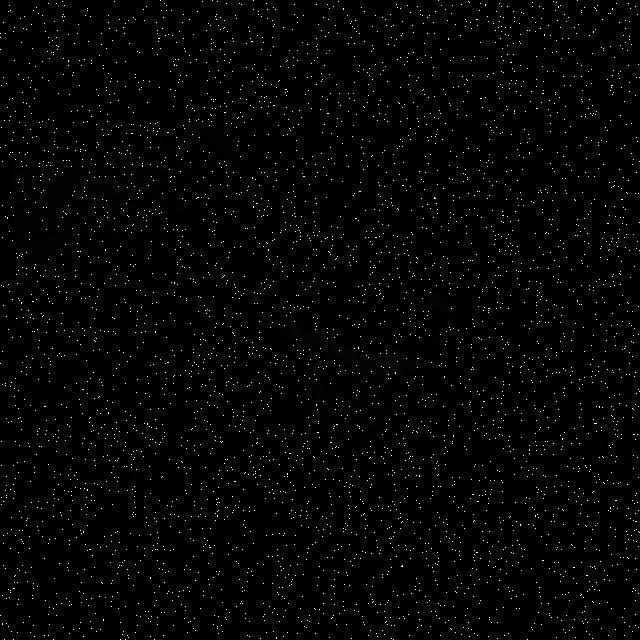adapter: (275, 248, 469, 512)
